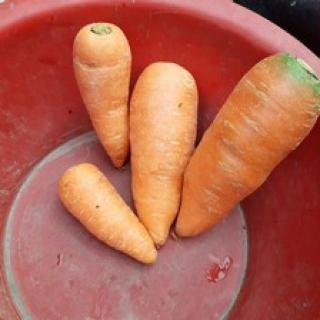carrot: (175, 52, 319, 238), (130, 61, 199, 244), (56, 163, 157, 267), (73, 20, 130, 168)
